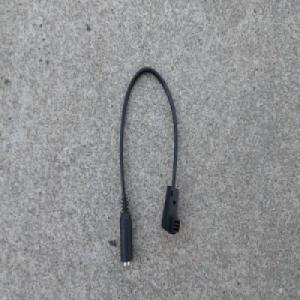Wire: (117, 64, 181, 267)
